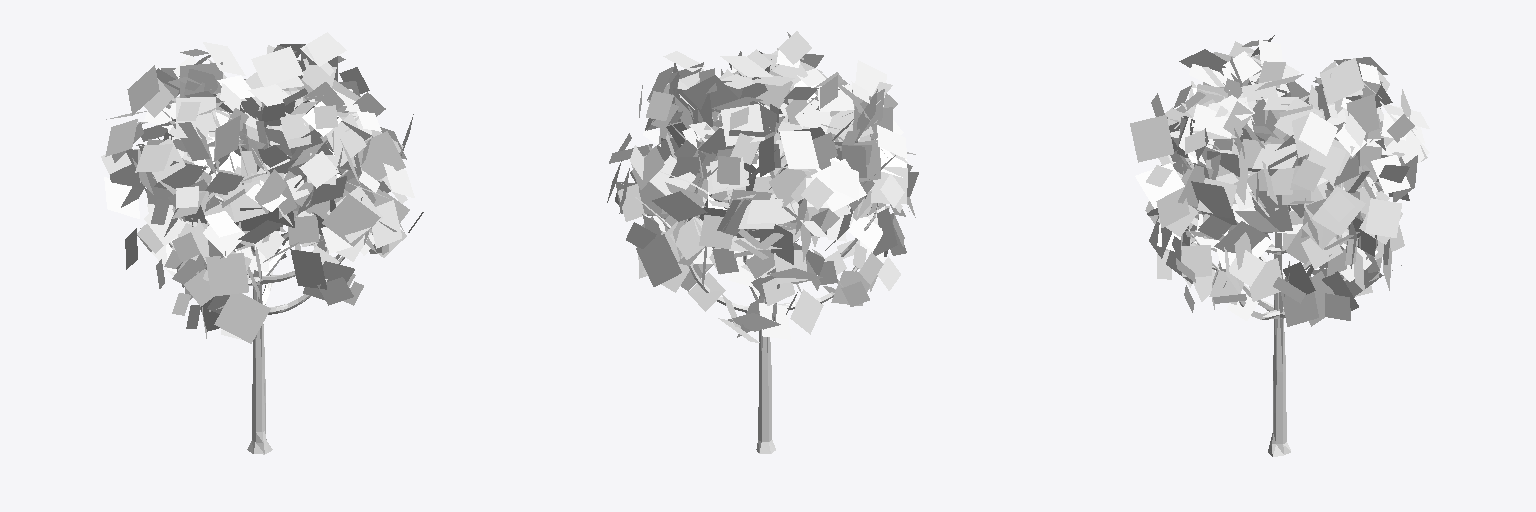
Rendered from Common_Whitebeam_Model_0.obj.
The picture shows the model from 3 angles: view 1: azimuth 30°, elevation 25°; view 2: azimuth 150°, elevation 25°; view 3: azimuth 270°, elevation 25°; orthographic projection.
Visible parts, largest first — view 1: Foliage__leafcard, Bark; view 2: Foliage__leafcard, Bark; view 3: Foliage__leafcard, Bark.
Part boxes in pixels (left/top/right/bottom): Foliage__leafcard: left=101, top=32, right=423, bottom=343; Bark: left=136, top=104, right=362, bottom=454; Foliage__leafcard: left=607, top=31, right=918, bottom=342; Bark: left=635, top=100, right=878, bottom=453; Foliage__leafcard: left=1130, top=35, right=1429, bottom=326; Bark: left=1179, top=129, right=1381, bottom=456.
Bounding box in the file's own units: 13.98 × 20 × 13.98.